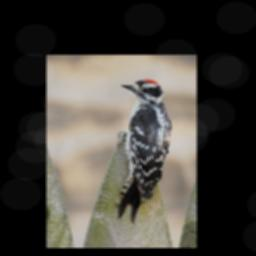Woodpecker: (118, 78, 174, 223)
